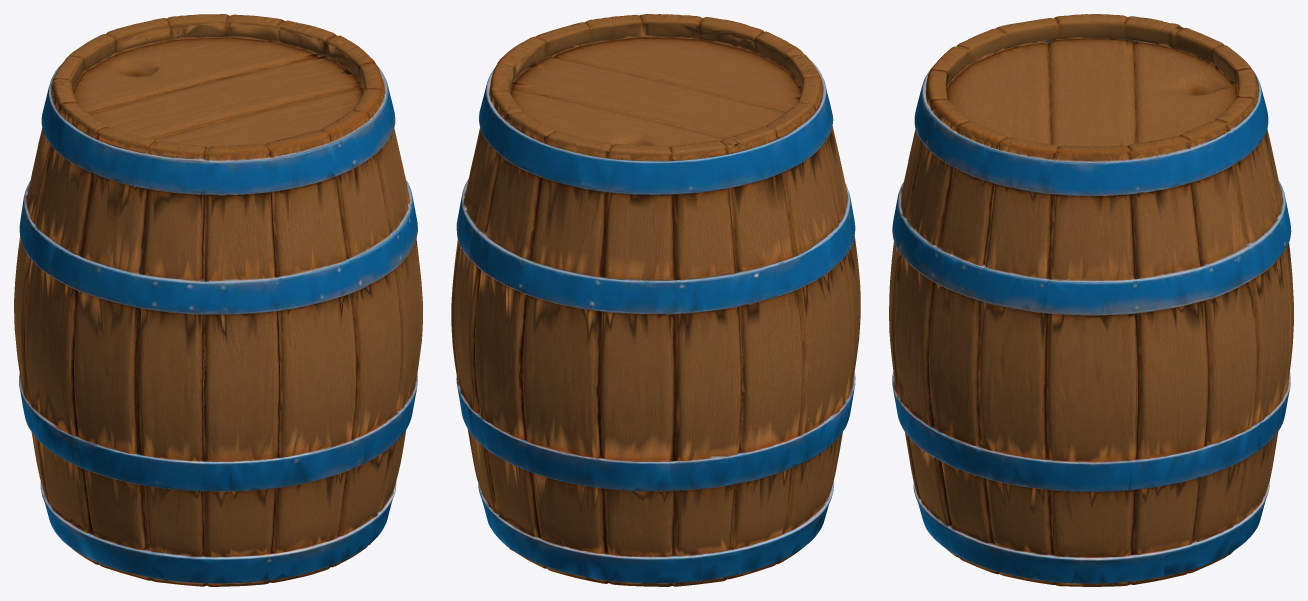
File: barrel_2.glb
3 views of the same model, side by side, from view 1: azimuth 30°, elevation 25°; view 2: azimuth 150°, elevation 25°; view 3: azimuth 270°, elevation 25° (orthographic).
Parts seen in each view (by area): view 1: tripo_node_c7b1df91-e26b-4675-b6f2-5c05ec019957; view 2: tripo_node_c7b1df91-e26b-4675-b6f2-5c05ec019957; view 3: tripo_node_c7b1df91-e26b-4675-b6f2-5c05ec019957.
Part boxes in pixels (x1=…): tripo_node_c7b1df91-e26b-4675-b6f2-5c05ec019957: x1=14, y1=14, x2=422, y2=586; tripo_node_c7b1df91-e26b-4675-b6f2-5c05ec019957: x1=451, y1=14, x2=860, y2=586; tripo_node_c7b1df91-e26b-4675-b6f2-5c05ec019957: x1=889, y1=14, x2=1293, y2=586.
Bounding box in the file's own units: 0.8233 × 0.98 × 0.8238.
Materials: 1 (1 with a texture image).
